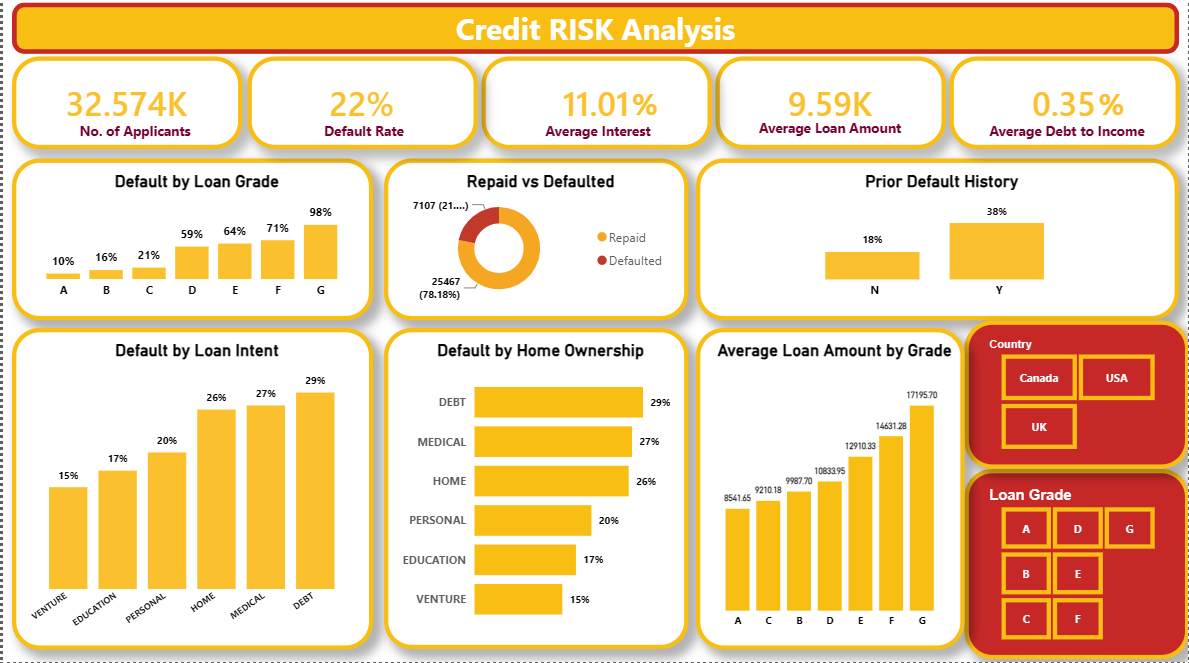

Layout of this report page (visuals, bound fields, positions):
{"tool":"powerbi","page":{"name":"Dashboard","canvas":[1280,720],"ordinal":0},"visuals":[{"type":"group","id":"g1","title":"Group 2","box":[1022.5,66.2,248.8,100],"z":0,"group":"g8"},{"type":"group","id":"g2","title":"Group 2","box":[10,66.4,249.1,100],"z":0},{"type":"group","id":"g3","title":"Group 2","box":[263.1,66.4,249.1,100],"z":0,"group":"g7"},{"type":"group","id":"g4","title":"Group 2","box":[516.2,66.4,249.1,100],"z":0,"group":"g6"},{"type":"cardVisual","fields":{"Data":["CreditRiskAT.Average Loan Amount"]},"box":[769.4,66.4,248.8,100],"z":0,"group":"g5"},{"type":"shape","box":[10,7.8,1260,55.6],"z":1000},{"type":"textbox","box":[800.9,127.3,185.5,31.8],"z":1000,"group":"g5"},{"type":"textbox","box":[455,8,369,55],"z":2000},{"type":"cardVisual","fields":{"Data":["Avg(CreditRiskAT.debt_to_income_ratio)"]},"box":[1022.5,66.2,248.8,100],"z":2000,"group":"g1"},{"type":"cardVisual","fields":{"Data":["Count(CreditRiskAT.client_ID)"]},"box":[10,66.4,248.8,100],"z":2000,"group":"g2"},{"type":"cardVisual","fields":{"Data":["CreditRiskAT.DefaultRate"]},"box":[263.1,66.4,248.8,100],"z":2000,"group":"g3"},{"type":"cardVisual","fields":{"Data":["Avg(CreditRiskAT.loan_int_rate)"]},"box":[516.2,66.4,248.8,100],"z":2000,"group":"g4"},{"type":"clusteredColumnChart","title":"Default by Loan Grade","fields":{"Category":["CreditRiskAT.loan_grade"],"Y":["CreditRiskAT.DefaultRate"]},"box":[10,176.7,390,174.4],"z":3000},{"type":"donutChart","title":"Repaid vs Defaulted","fields":{"Category":["CreditRiskAT.Loan Outcome"],"Y":["CountNonNull(CreditRiskAT.loan_status)"]},"box":[411.1,176.7,328.9,174.4],"z":4000},{"type":"textbox","box":[672.6,89.1,50.9,64.5],"z":5000,"group":"g6"},{"type":"columnChart","title":"Default by Loan Intent","fields":{"Category":["CreditRiskAT.loan_intent"],"Y":["CreditRiskAT.DefaultRate"]},"box":[10,360,390,347.1],"z":5000},{"type":"textbox","box":[1054.4,130.9,188.8,32.5],"z":5003,"group":"g1"},{"type":"textbox","box":[325.6,131.4,125,32.5],"z":5003,"group":"g3"},{"type":"textbox","box":[578.7,131.4,125,32.5],"z":5003,"group":"g4"},{"type":"textbox","box":[71,131.9,142.7,31.8],"z":5003,"group":"g2"},{"type":"barChart","title":"Default by Home Ownership","fields":{"Category":["CreditRiskAT.loan_intent"],"Y":["CreditRiskAT.DefaultRate"]},"box":[411.1,360,328.9,346.7],"z":6000},{"type":"group","id":"g5","title":"Group 3","box":[769.4,66.4,249.1,100],"z":7000},{"type":"textbox","box":[1177.3,89,43.6,64.5],"z":7000,"group":"g8"},{"type":"group","id":"g6","title":"Group 5","box":[516.2,66.4,249.1,100],"z":8000},{"type":"group","id":"g7","title":"Group 5","box":[263.1,66.4,249.1,100],"z":9000},{"type":"clusteredColumnChart","title":"Prior Default History","fields":{"Category":["CreditRiskAT.cb_person_default_on_file"],"Y":["CreditRiskAT.DefaultRate"]},"box":[748.1,176.5,521.4,174.9],"z":10000},{"type":"slicer","title":"Default by marital status","fields":{"Values":["CreditRiskAT.loan_grade"]},"box":[1037.9,511.7,242.9,205.6],"z":11000},{"type":"slicer","title":"Default by marital status","fields":{"Values":["CreditRiskAT.country"]},"box":[1037.9,351.4,242.9,160.3],"z":12000},{"type":"group","id":"g8","title":"Group 1","box":[1022.5,66.2,248.8,100],"z":13000},{"type":"clusteredColumnChart","title":"Average Loan Amount by Grade","fields":{"Category":["CreditRiskAT.loan_grade"],"Y":["Avg(CreditRiskAT.loan_amnt)"]},"box":[747.5,358.8,290,347.5],"z":14000}]}

Visuals, with their boxes in screenshot pixels (x1, y1, x2, y2), scaled from the page's 1280x720 canvas onto the 1189x663 screenshot:
"Group 2" group: <bbox>950, 61, 1181, 153</bbox>
"Group 2" group: <bbox>9, 61, 241, 153</bbox>
"Group 2" group: <bbox>244, 61, 476, 153</bbox>
"Group 2" group: <bbox>480, 61, 711, 153</bbox>
cardVisual - CreditRiskAT.Average Loan Amount: <bbox>715, 61, 946, 153</bbox>
shape: <bbox>9, 7, 1180, 58</bbox>
textbox: <bbox>744, 117, 916, 147</bbox>
textbox: <bbox>423, 7, 765, 58</bbox>
cardVisual - Avg(CreditRiskAT.debt_to_income_ratio): <bbox>950, 61, 1181, 153</bbox>
cardVisual - Count(CreditRiskAT.client_ID): <bbox>9, 61, 240, 153</bbox>
cardVisual - CreditRiskAT.DefaultRate: <bbox>244, 61, 476, 153</bbox>
cardVisual - Avg(CreditRiskAT.loan_int_rate): <bbox>480, 61, 711, 153</bbox>
"Default by Loan Grade" clusteredColumnChart: <bbox>9, 163, 372, 323</bbox>
"Repaid vs Defaulted" donutChart: <bbox>382, 163, 687, 323</bbox>
textbox: <bbox>625, 82, 672, 141</bbox>
"Default by Loan Intent" columnChart: <bbox>9, 332, 372, 651</bbox>
textbox: <bbox>979, 121, 1155, 150</bbox>
textbox: <bbox>302, 121, 419, 151</bbox>
textbox: <bbox>538, 121, 654, 151</bbox>
textbox: <bbox>66, 121, 199, 151</bbox>
"Default by Home Ownership" barChart: <bbox>382, 332, 687, 651</bbox>
"Group 3" group: <bbox>715, 61, 946, 153</bbox>
textbox: <bbox>1094, 82, 1134, 141</bbox>
"Group 5" group: <bbox>480, 61, 711, 153</bbox>
"Group 5" group: <bbox>244, 61, 476, 153</bbox>
"Prior Default History" clusteredColumnChart: <bbox>695, 163, 1179, 324</bbox>
"Default by marital status" slicer: <bbox>964, 471, 1188, 661</bbox>
"Default by marital status" slicer: <bbox>964, 324, 1188, 471</bbox>
"Group 1" group: <bbox>950, 61, 1181, 153</bbox>
"Average Loan Amount by Grade" clusteredColumnChart: <bbox>694, 330, 964, 650</bbox>
